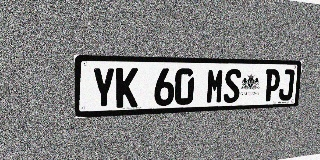0: (174, 68, 194, 105)
6: (154, 68, 175, 106)
J: (278, 69, 295, 101)
K: (116, 68, 138, 108)
M: (206, 69, 225, 104)
P: (264, 69, 281, 101)
S: (223, 69, 241, 103)
Y: (92, 67, 115, 109)
